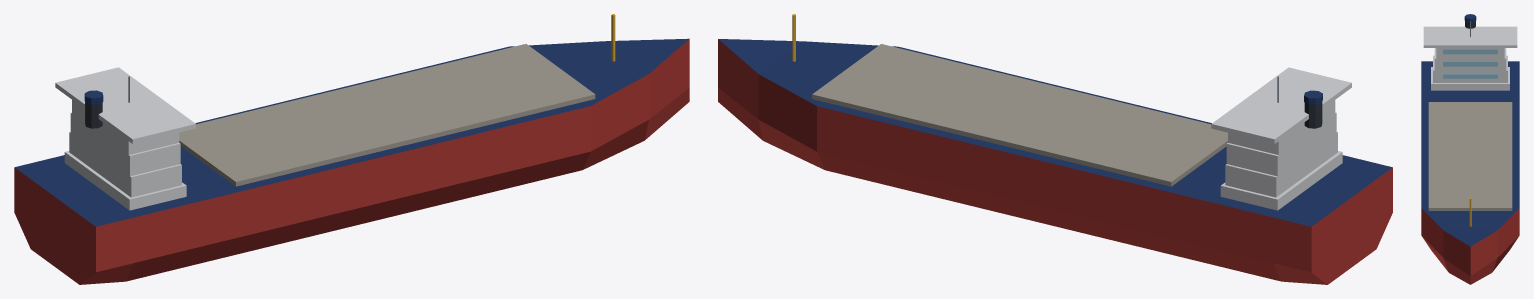
File: ship_feeder.glb
3 renders of one model, left to right at view 1: azimuth 30°, elevation 25°; view 2: azimuth 150°, elevation 25°; view 3: azimuth 270°, elevation 25°, orthographic. The views are drawn at different scales.
Visible parts, largest first — view 1: ship_feeder; view 2: ship_feeder; view 3: ship_feeder.
Boxes of the visible parts, bbox=[...] form: ship_feeder: bbox=[14, 14, 689, 284]; ship_feeder: bbox=[718, 14, 1392, 284]; ship_feeder: bbox=[1421, 14, 1519, 284].
Bounding box in the file's own units: 36 × 9.35 × 8.
